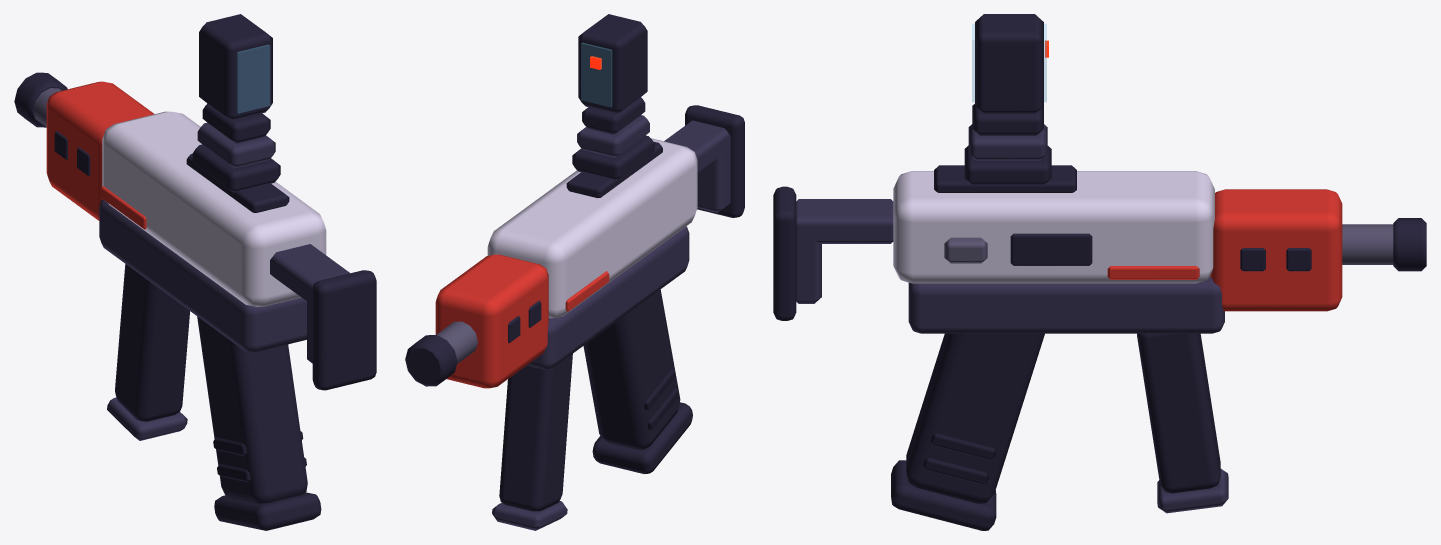
File: compact_carbine.glb
The picture shows the model from 3 angles, left to right: view 1: azimuth 30°, elevation 25°; view 2: azimuth 150°, elevation 25°; view 3: azimuth 270°, elevation 25°; orthographic projection. The views are drawn at different scales.
Parts seen in each view (by area): view 1: item.compact_carbine.body, part.mag; view 2: item.compact_carbine.body, part.mag; view 3: item.compact_carbine.body, part.mag, part.bolt.
Boxes of the visible parts, x1,y1,x2,y2 form: item.compact_carbine.body: [14, 14, 376, 530]; part.mag: [107, 264, 189, 440]; item.compact_carbine.body: [405, 14, 744, 474]; part.mag: [492, 354, 572, 530]; item.compact_carbine.body: [773, 14, 1426, 530]; part.mag: [1137, 333, 1228, 513]; part.bolt: [944, 237, 987, 263].
Size of the model in its own units: 0.1484 by 0.6703 by 0.8.
